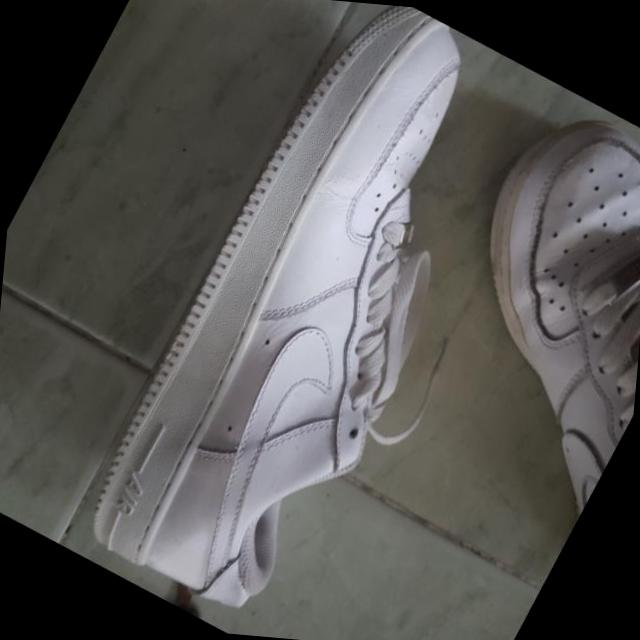nike_original_airforce: (164, 2, 640, 485), (136, 303, 605, 640)
